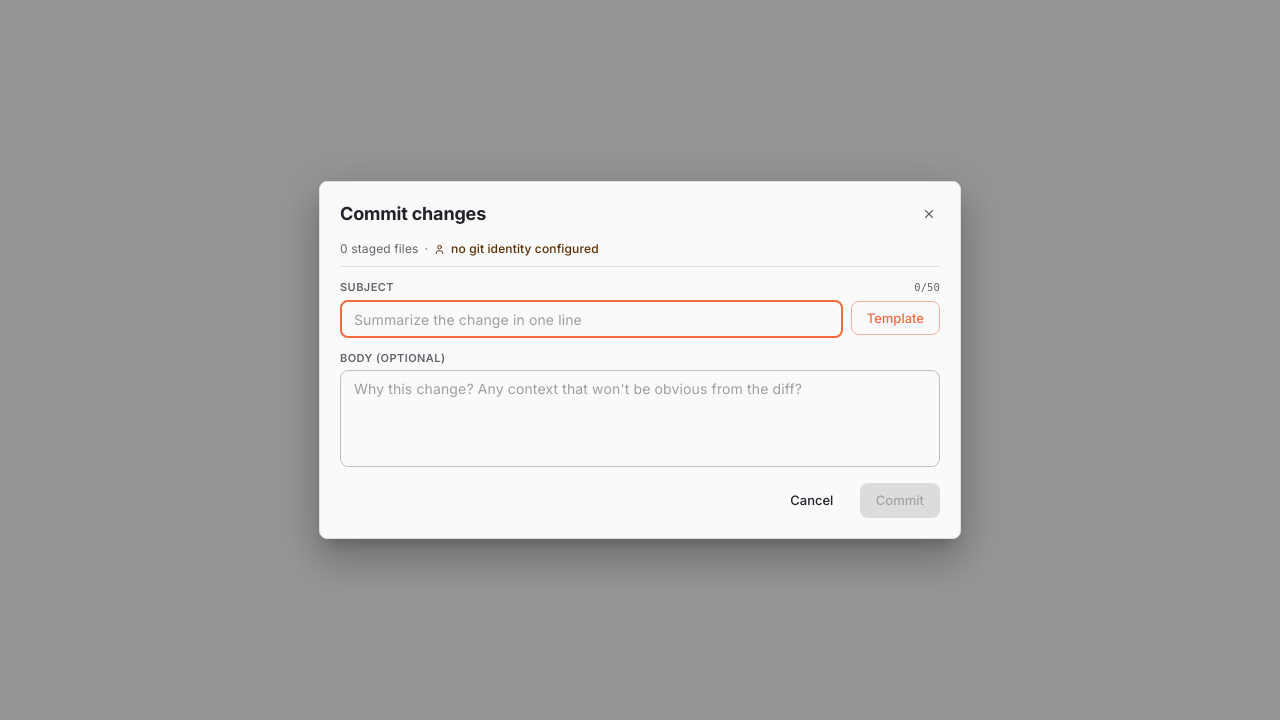
CommitDialog › disables submit while the message is empty and enables it after insert-template
Check: the button with test id "commit-dialog-submit" is disabled, box [860,483,940,518]
Step 1. Click the button with test id "commit-dialog-insert-template" → click(895, 318), box [851,300,940,335]
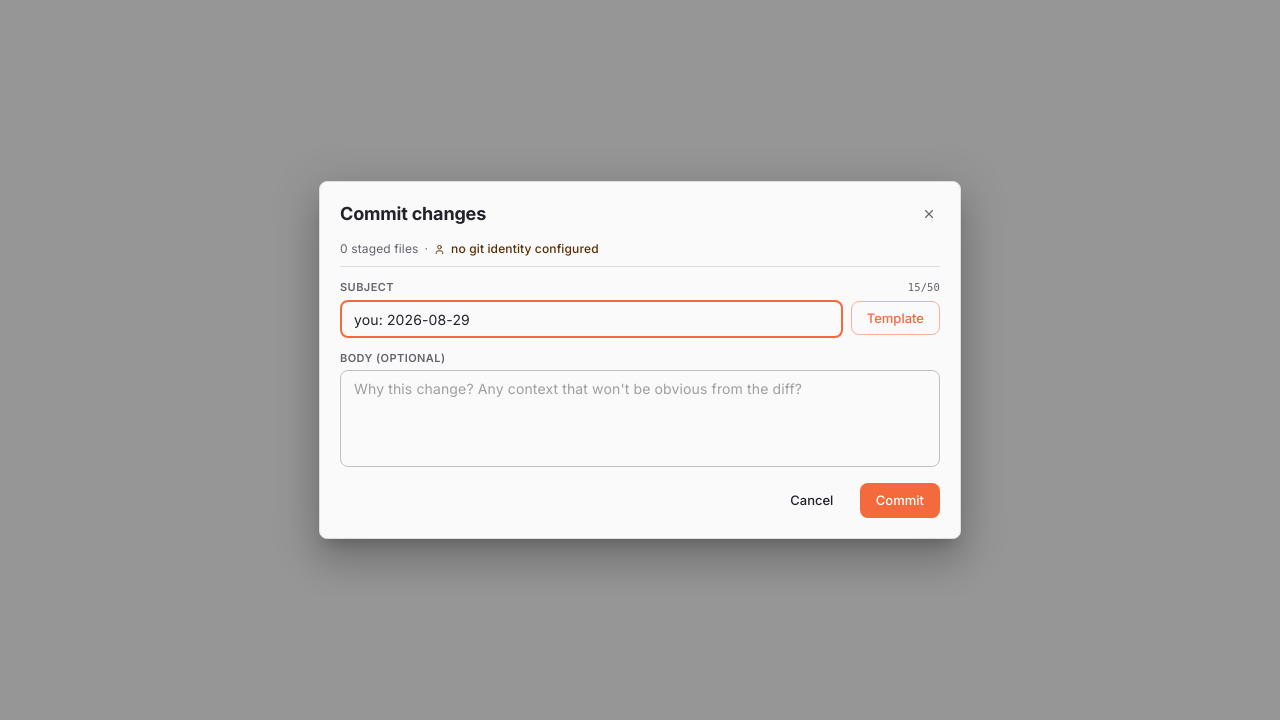
Check: the button with test id "commit-dialog-submit" is enabled, box [860,483,940,518]
